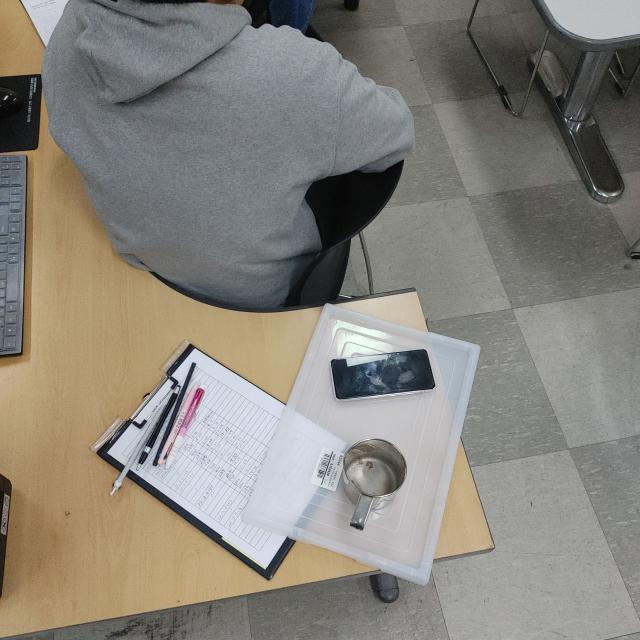cup: (341, 435, 408, 531)
phone: (328, 347, 436, 401)
